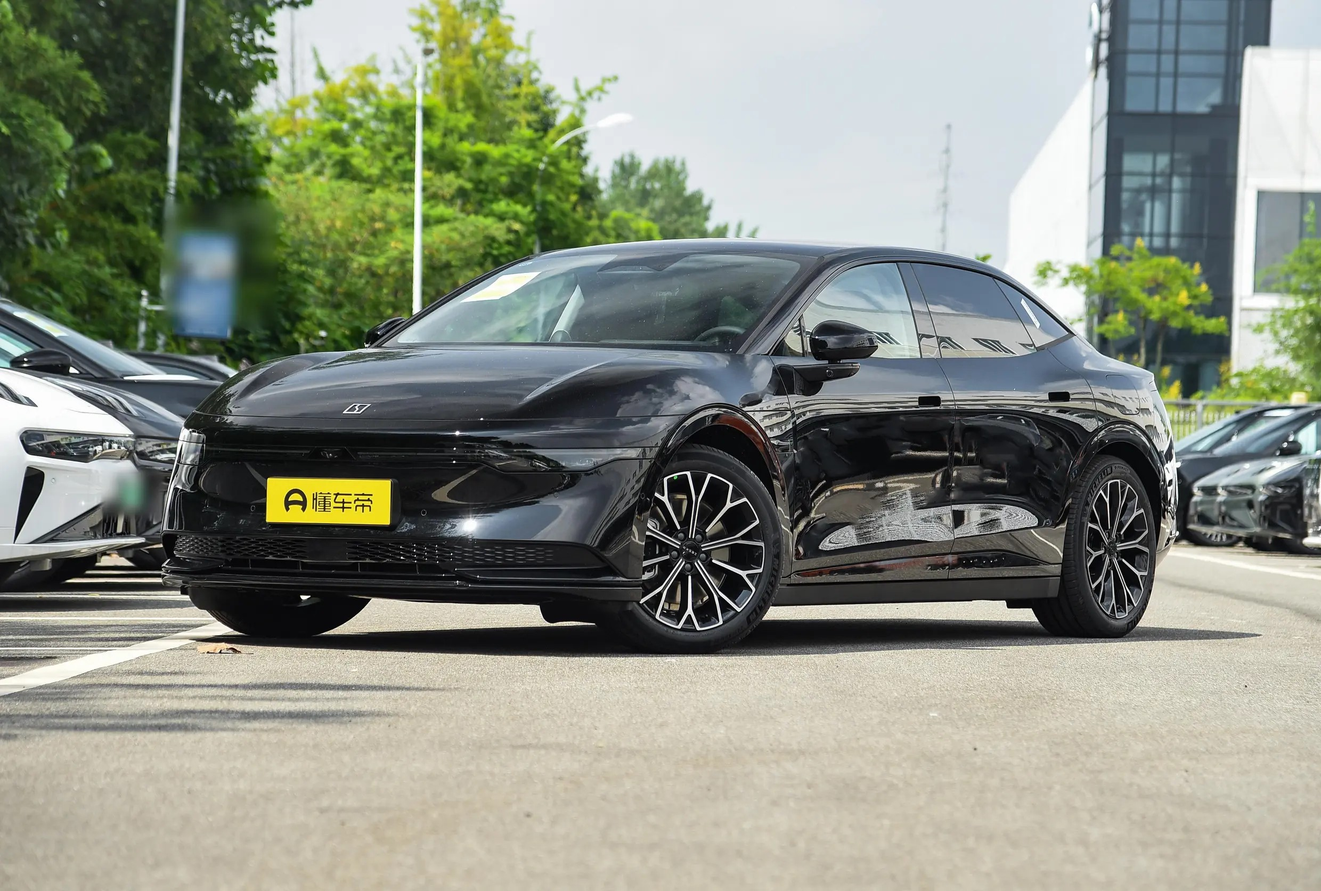ZEEKR: (343, 404, 371, 414)
